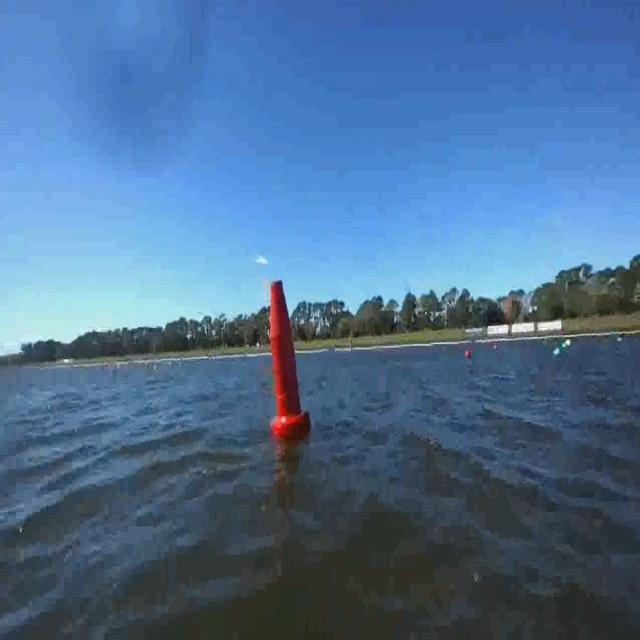red-column-buoy: (269, 274, 310, 436)
